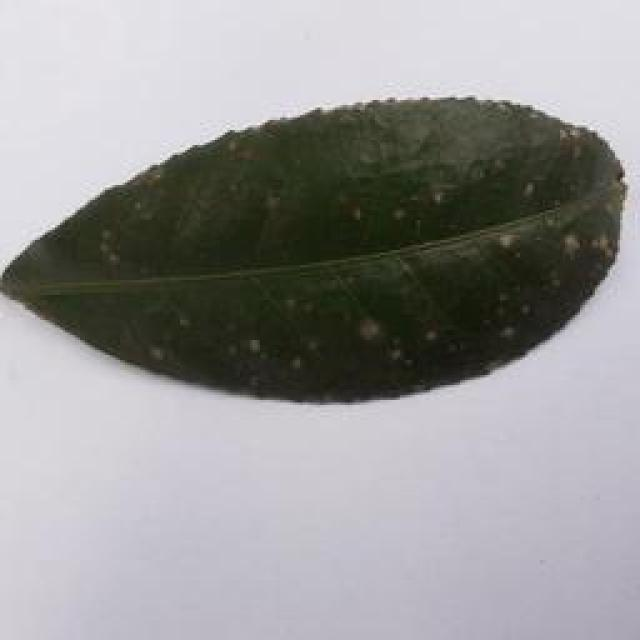Algal Leaf Spot: (6, 93, 640, 410)
